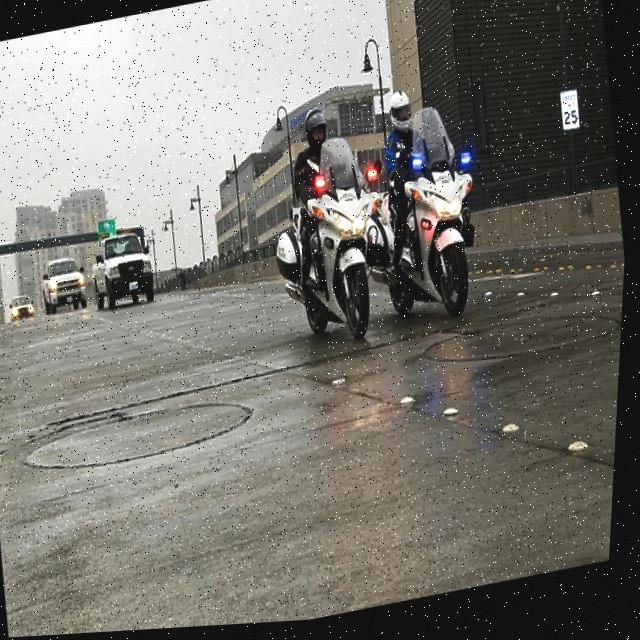car: (89, 217, 165, 311), (31, 240, 93, 318)
motorcycle: (268, 173, 400, 357), (373, 160, 492, 331)
